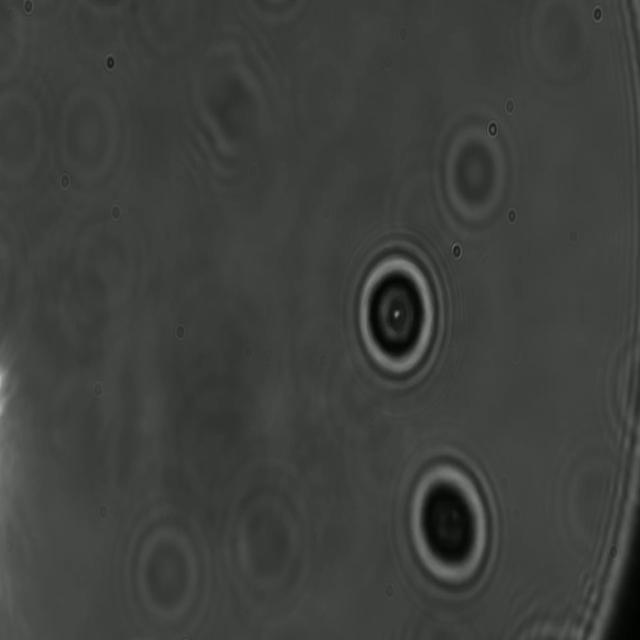LCELL: (348, 234, 449, 399)
